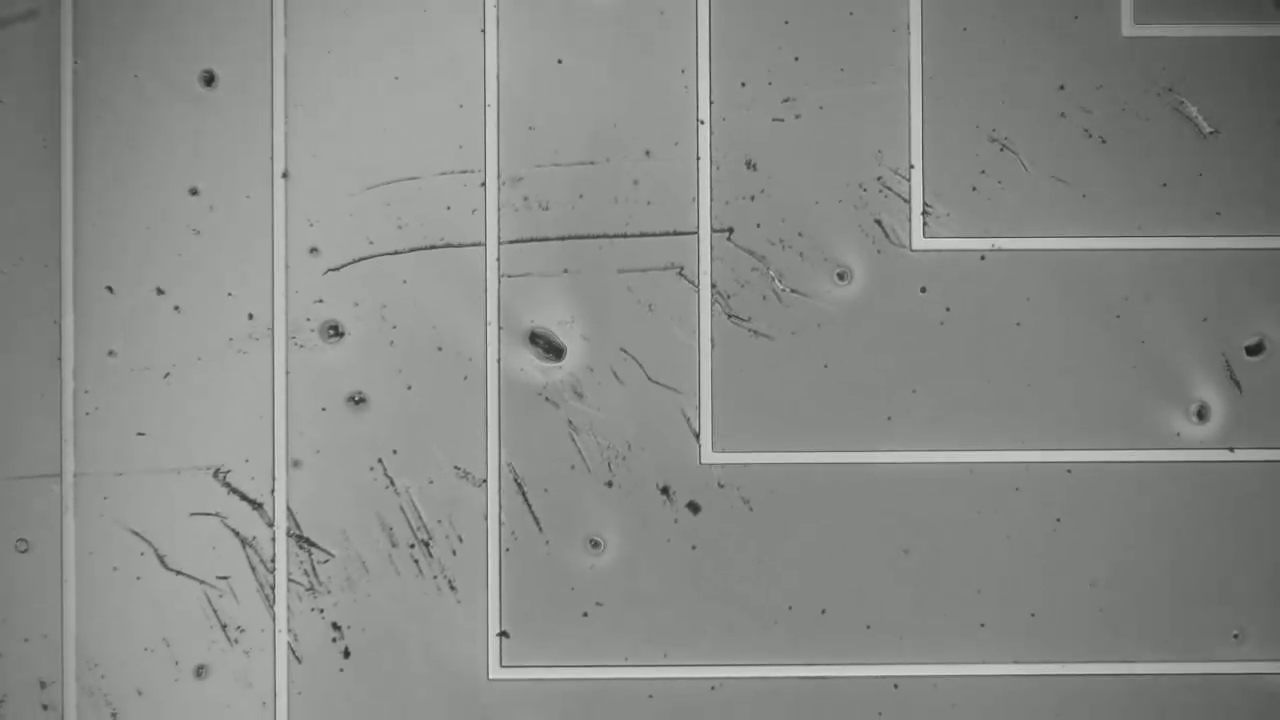scratch: (322, 213, 732, 257)
stains_enbedded: (382, 464, 461, 594), (129, 525, 201, 595), (617, 346, 686, 405), (510, 470, 558, 549), (346, 166, 473, 192)
